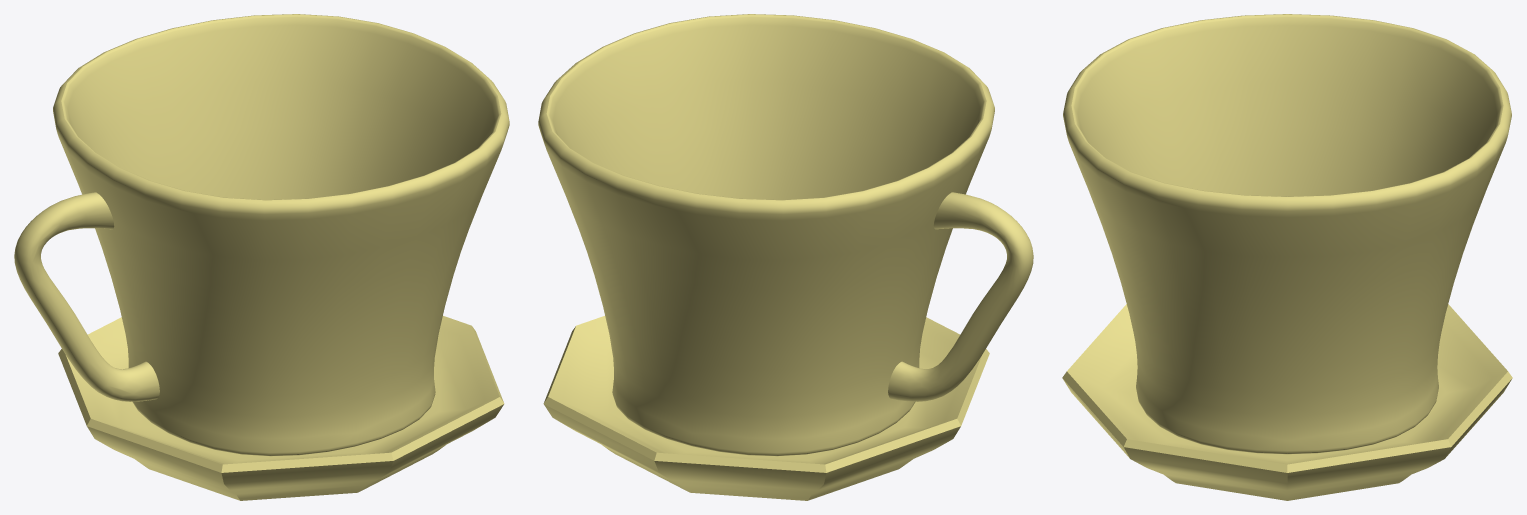
File: tazzina_verde_LOD0.fbx
3 views of the same model, side by side, from view 1: azimuth 30°, elevation 25°; view 2: azimuth 150°, elevation 25°; view 3: azimuth 270°, elevation 25° (orthographic).
Parts seen in each view (by area): view 1: Cube_002; view 2: Cube_002; view 3: Cube_002.
Part boxes in pixels (x1,y1,x2,y2): Cube_002: [14, 14, 509, 500]; Cube_002: [538, 14, 1033, 500]; Cube_002: [1062, 14, 1512, 500].
Size of the model in its own units: 30.05 by 20.71 by 25.48.
